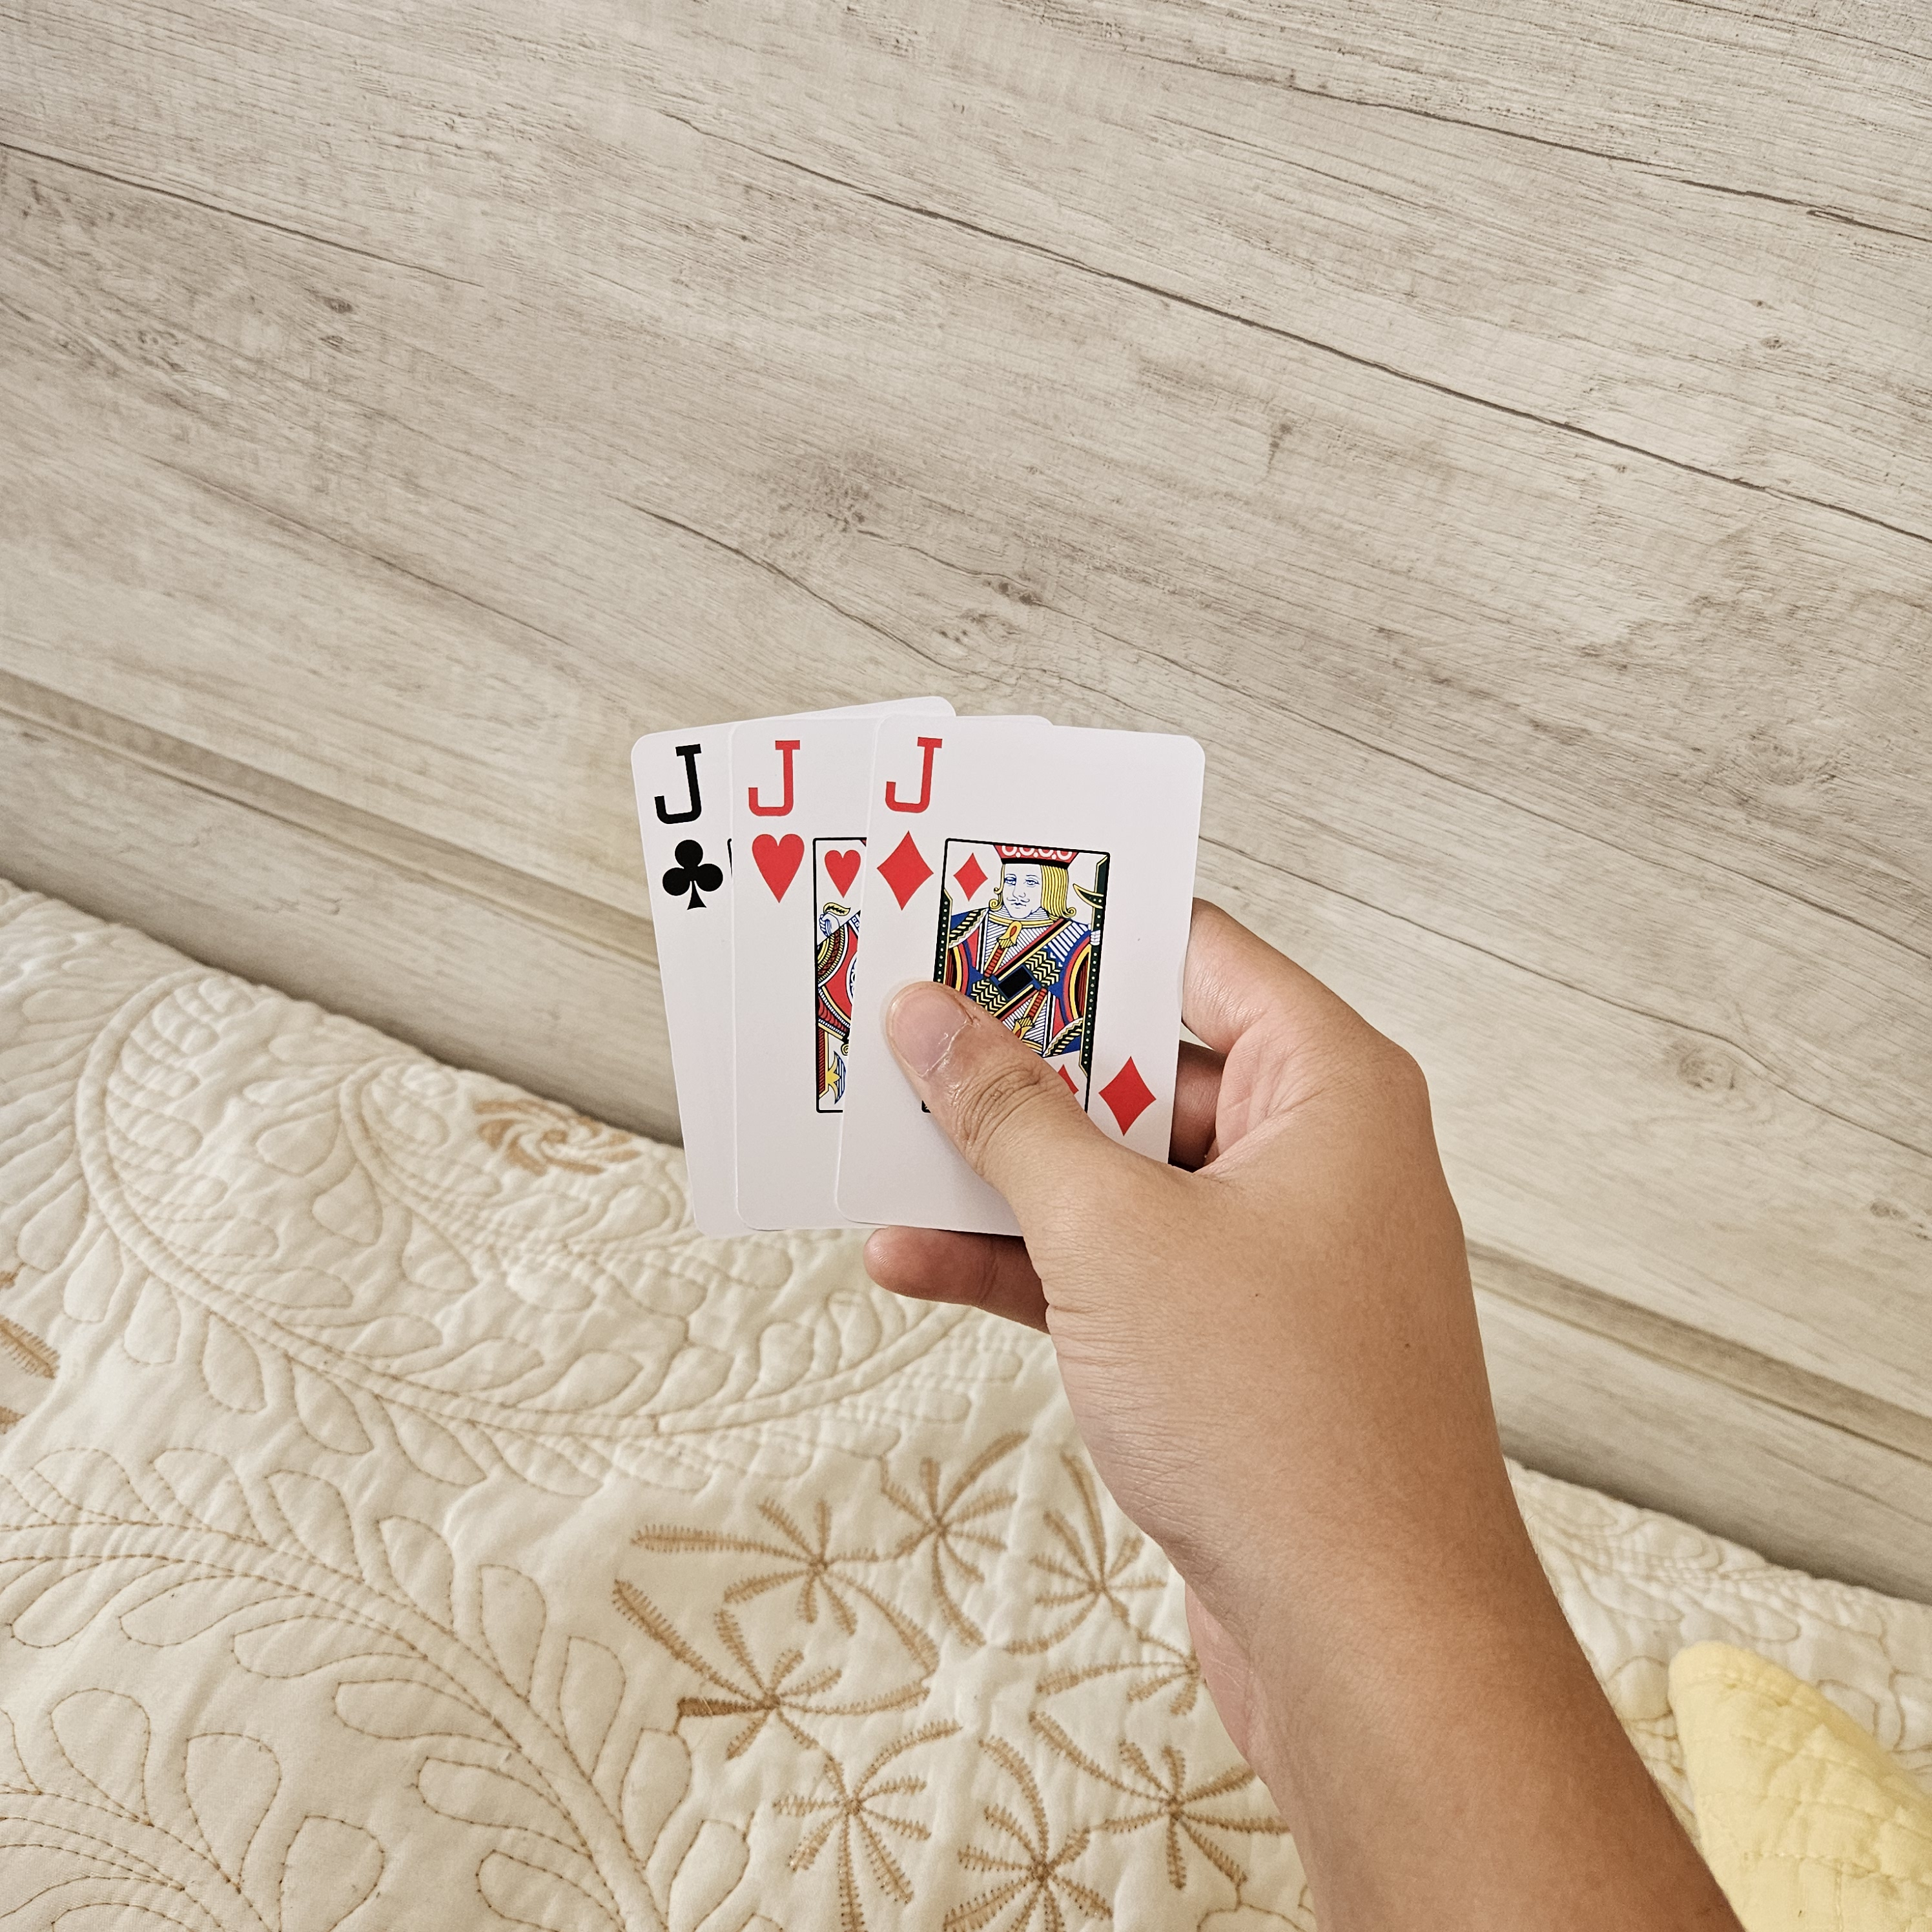JC: (738, 729, 814, 908)
JO: (872, 722, 948, 913)
JP: (637, 734, 732, 929)
